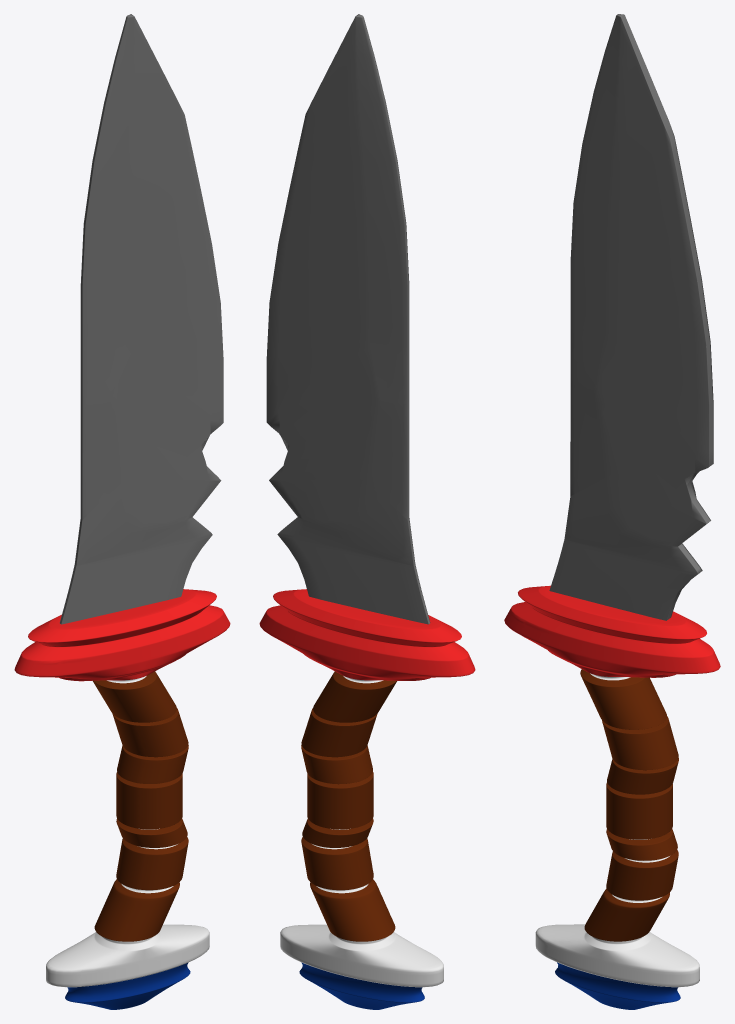
Rendered from knife.glb.
3 views of the same model, side by side, from view 1: azimuth 30°, elevation 25°; view 2: azimuth 150°, elevation 25°; view 3: azimuth 330°, elevation 25° (orthographic).
Visible parts, largest first — view 1: Blade, Handle; view 2: Blade, Handle; view 3: Blade, Handle.
Part boxes in pixels (x1,y1,x2,y2): Blade: [59, 14, 223, 624]; Handle: [14, 589, 230, 1009]; Blade: [266, 14, 430, 624]; Handle: [259, 589, 475, 1009]; Blade: [549, 14, 713, 620]; Handle: [504, 585, 720, 1009].
Size of the model in its own units: 3.12 by 13.86 by 1.01.
